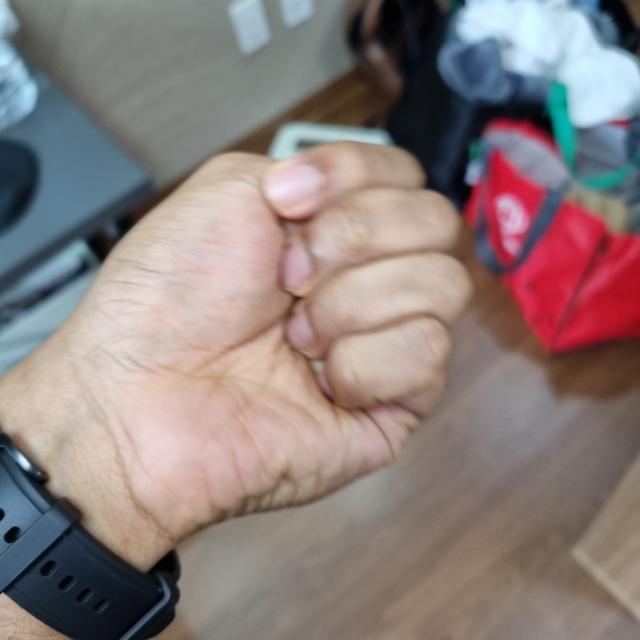Rock: (2, 152, 414, 534)
